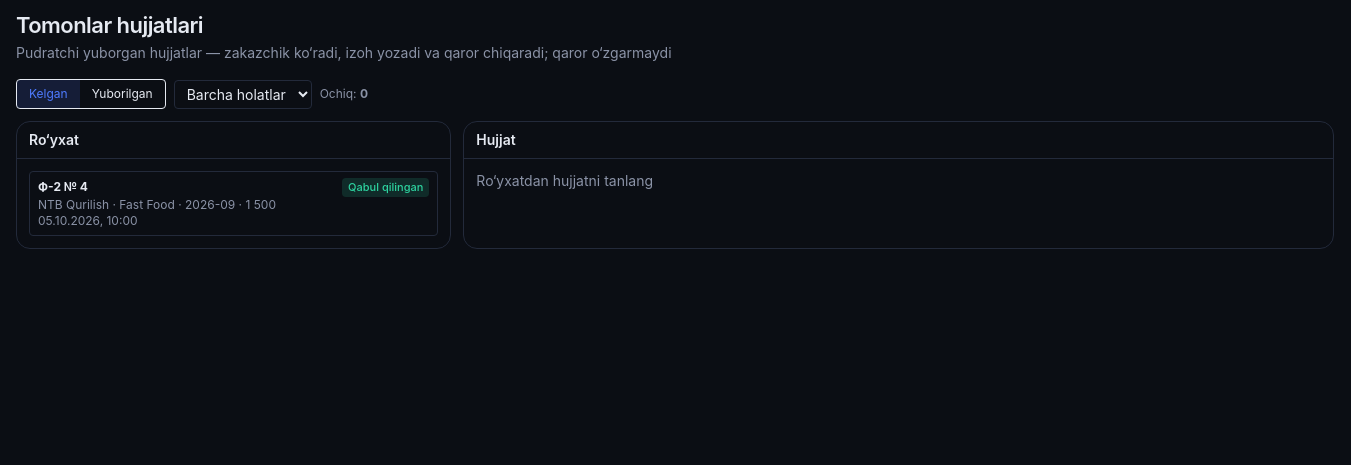
Test case: Taqdimlar (zakazchik qarori) › qabul qilingan hujjatda qaror tugmalari yo‘q (qaror o‘zgarmaydi)
Click the text "Ф-2 № 4" at (63, 187), box [38,179,88,195]
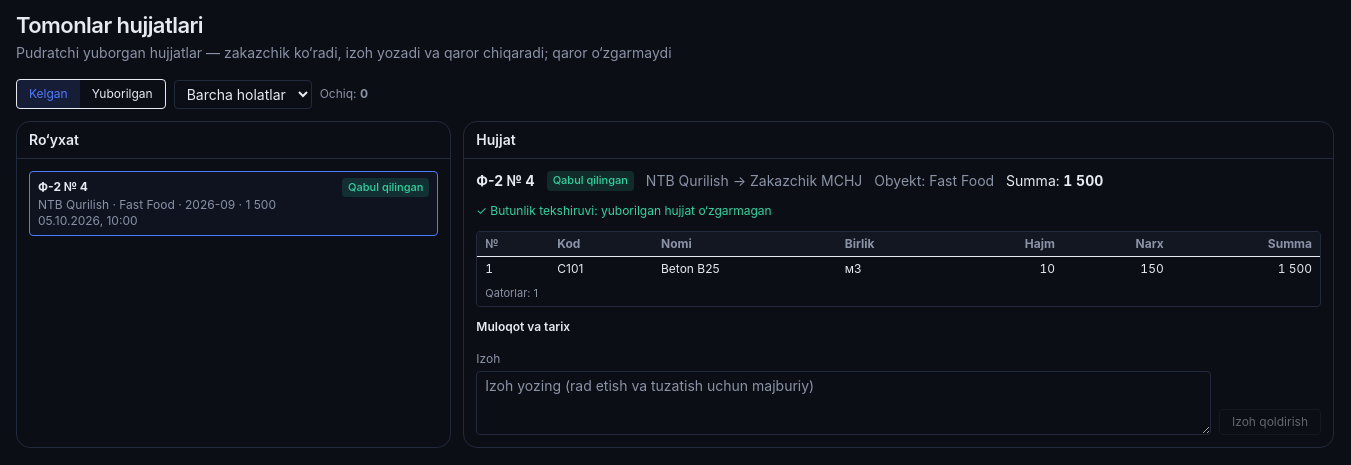
expect the text "Beton B25" is shown: met, box [653,256,837,281]
